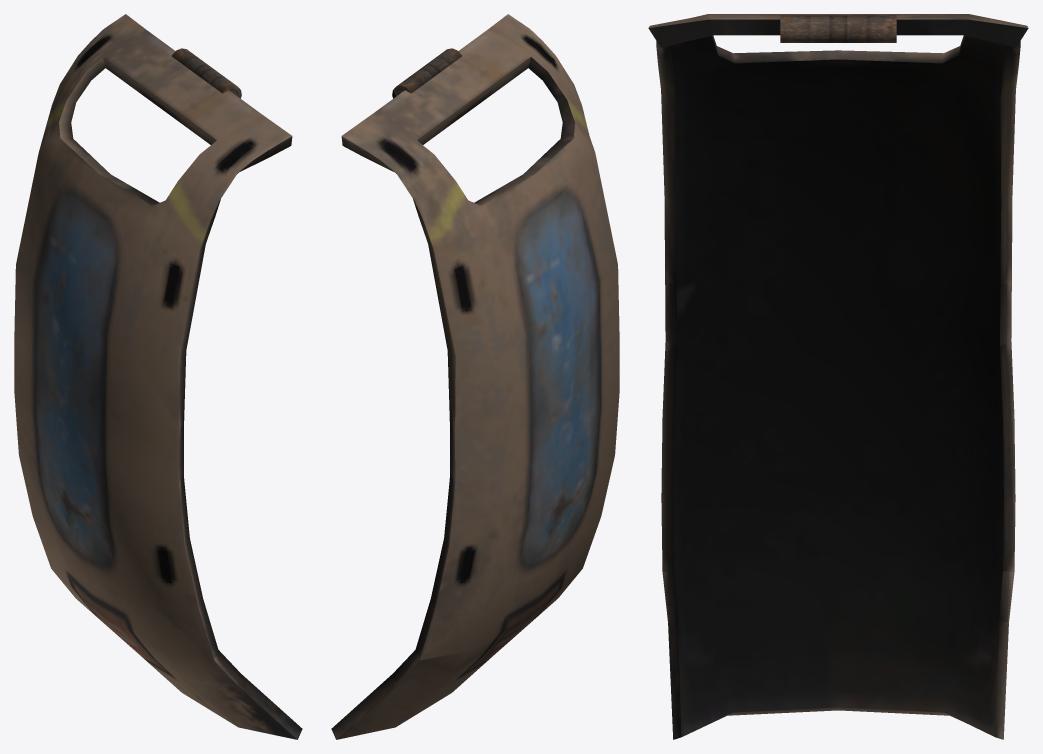
File: 03_02_worker_medium_maintenance_front_plate.dae
3 renders of one model, left to right at view 1: azimuth 30°, elevation 25°; view 2: azimuth 150°, elevation 25°; view 3: azimuth 270°, elevation 25°, orthographic. The views are drawn at different scales.
Visible parts, largest first — view 1: polySurface384; view 2: polySurface384; view 3: polySurface384.
Boxes of the visible parts, bbox=[...] form: polySurface384: bbox=[14, 14, 302, 739]; polySurface384: bbox=[331, 14, 619, 739]; polySurface384: bbox=[648, 14, 1028, 739].
Size of the model in its own units: 0.1082 by 0.3801 by 0.1839.
